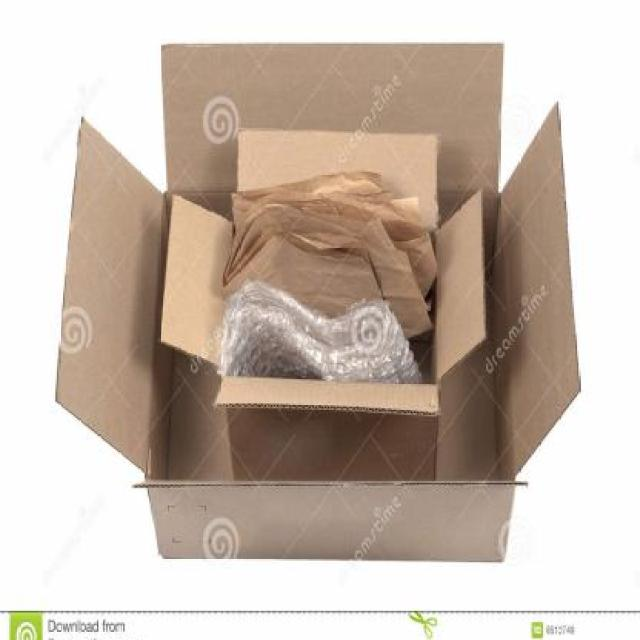box: (53, 39, 584, 575)
